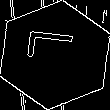L_E: (26, 36, 84, 74)
